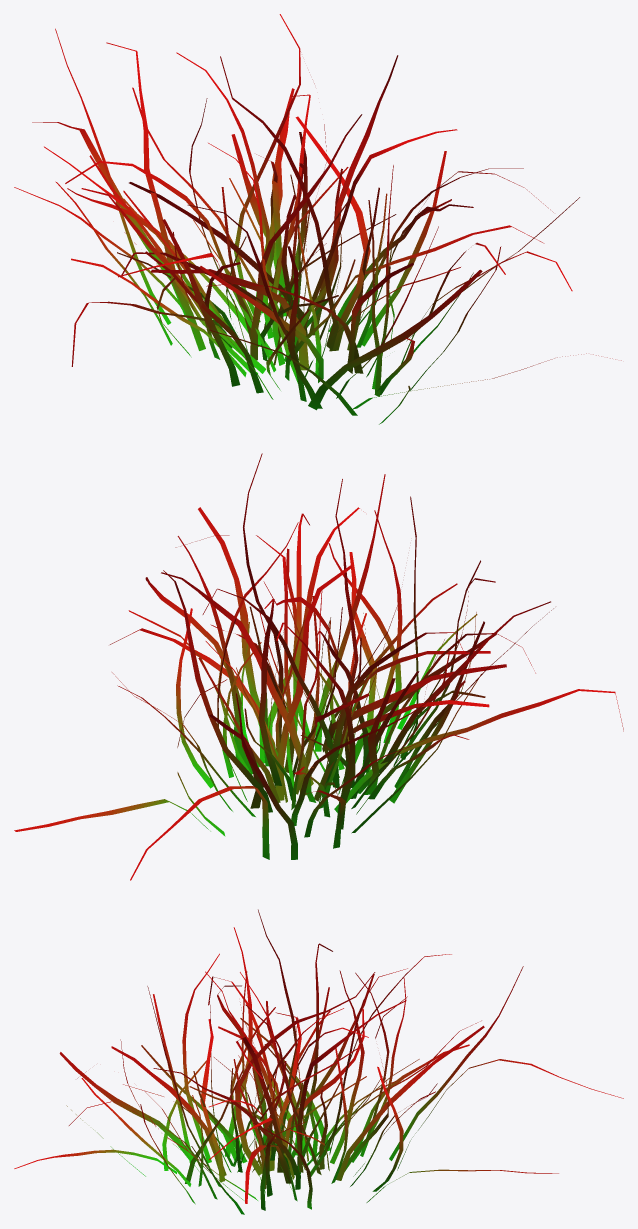
File: Var9_LOD1.fbx
The picture shows the model from 3 angles, top to bottom: view 1: azimuth 30°, elevation 25°; view 2: azimuth 150°, elevation 25°; view 3: azimuth 270°, elevation 25°; orthographic projection. The views are drawn at different scales.
Parts seen in each view (by area): view 1: _h53h_Var9_LOD1; view 2: _h53h_Var9_LOD1; view 3: _h53h_Var9_LOD1.
Boxes of the visible parts, x1=… form: _h53h_Var9_LOD1: x1=14, y1=14, x2=621, y2=424; _h53h_Var9_LOD1: x1=14, y1=453, x2=623, y2=880; _h53h_Var9_LOD1: x1=14, y1=909, x2=623, y2=1214.
Size of the model in its own units: 19.05 by 11.53 by 26.34.
